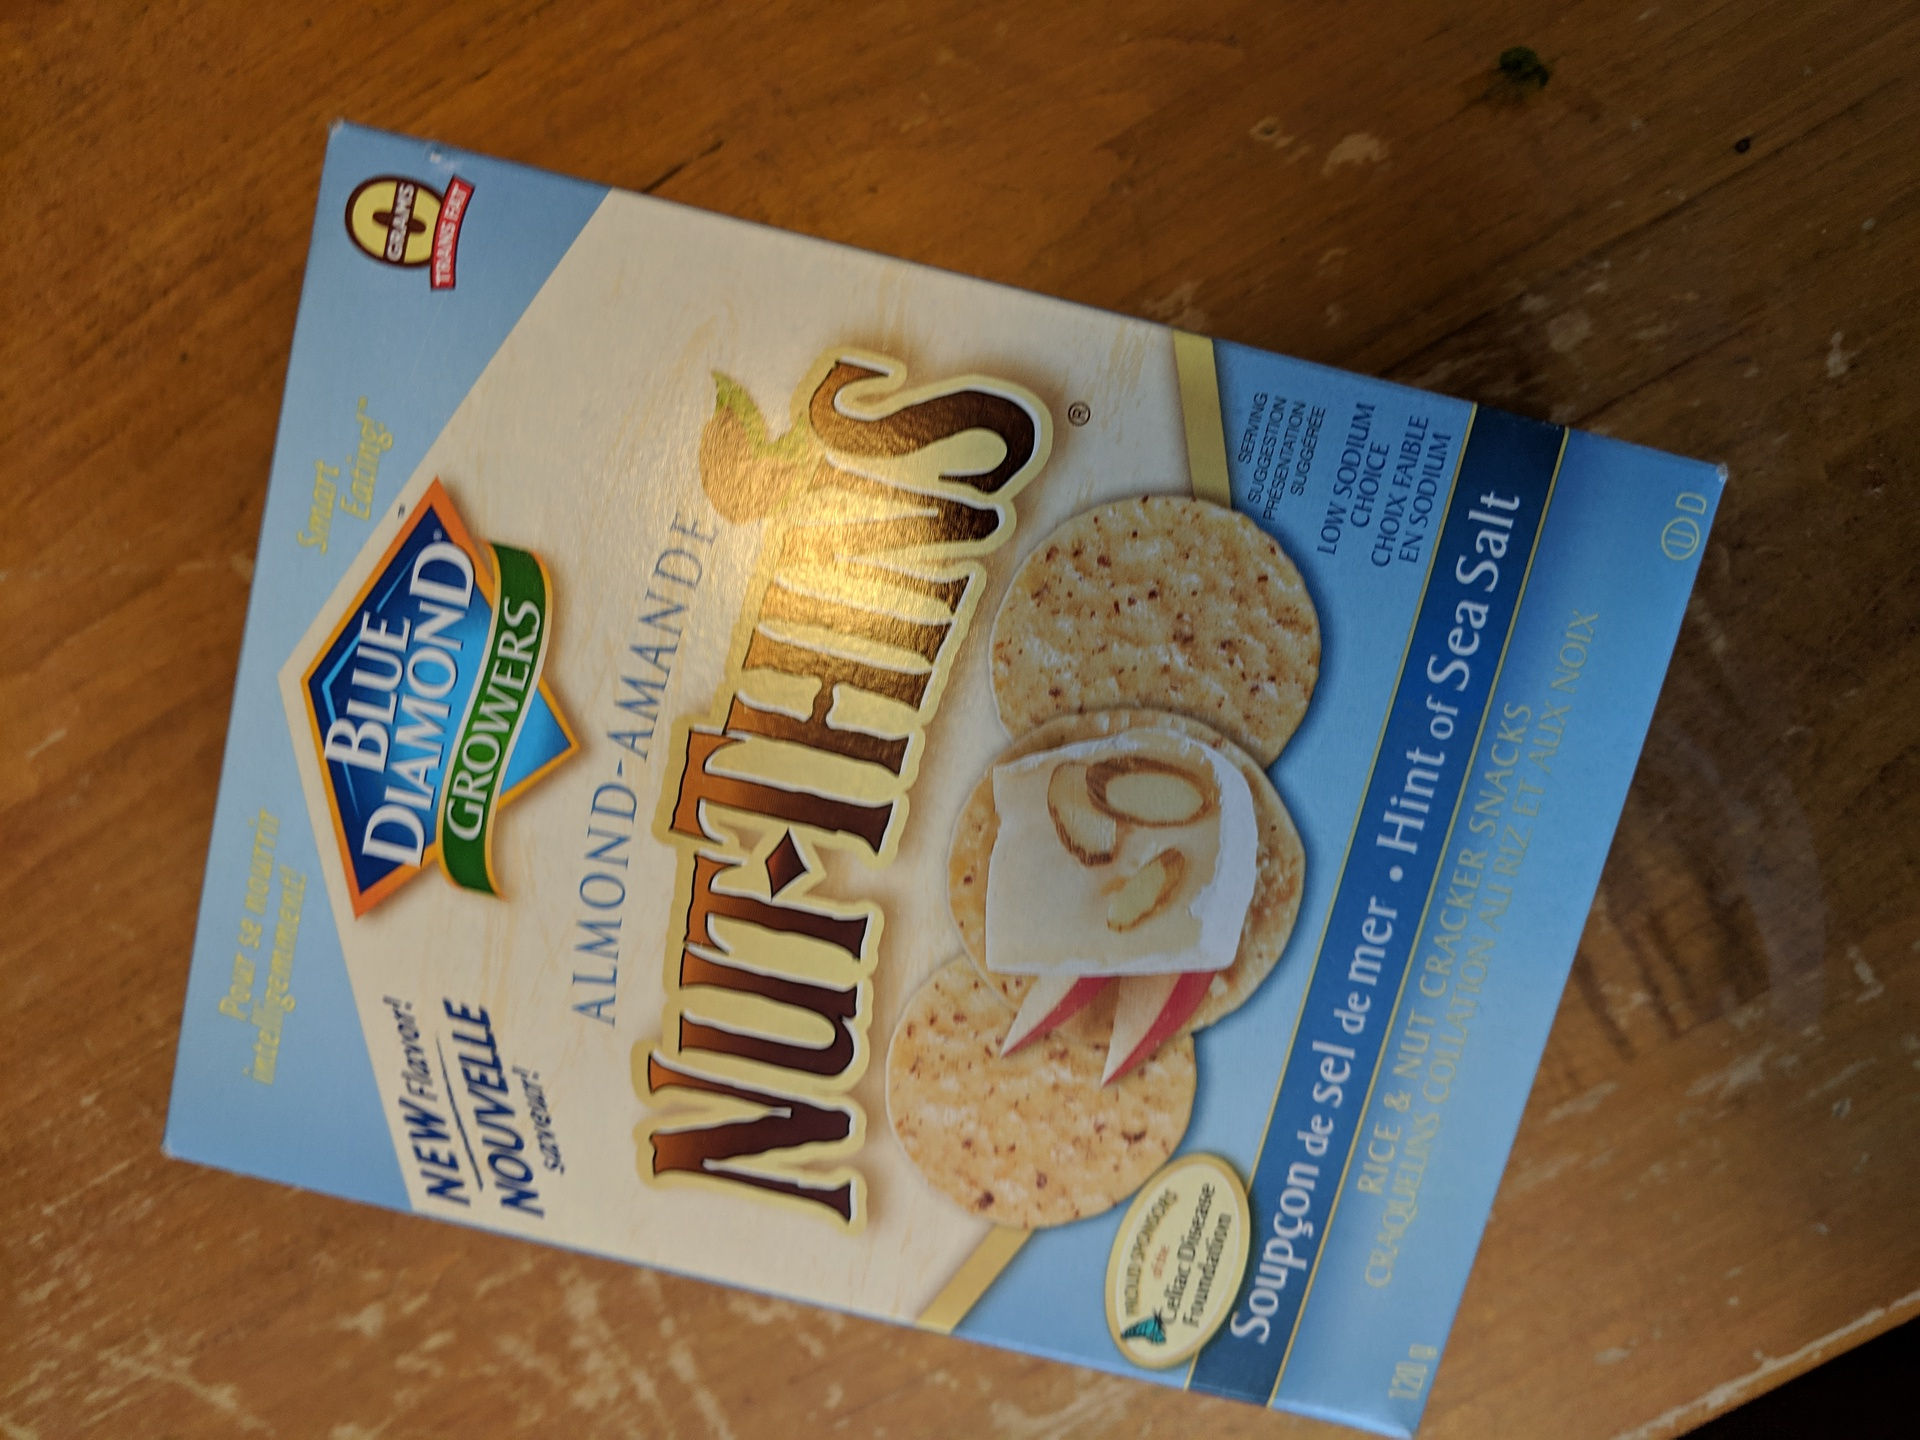blue_diamond_nut_thins_almond_seasalt: (342, 413, 1497, 1196)
